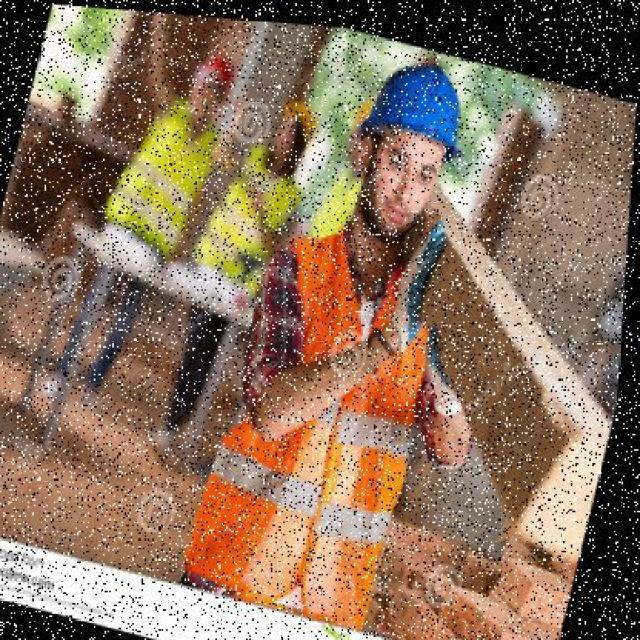helmet: (348, 38, 486, 166)
vest: (218, 188, 468, 590)
